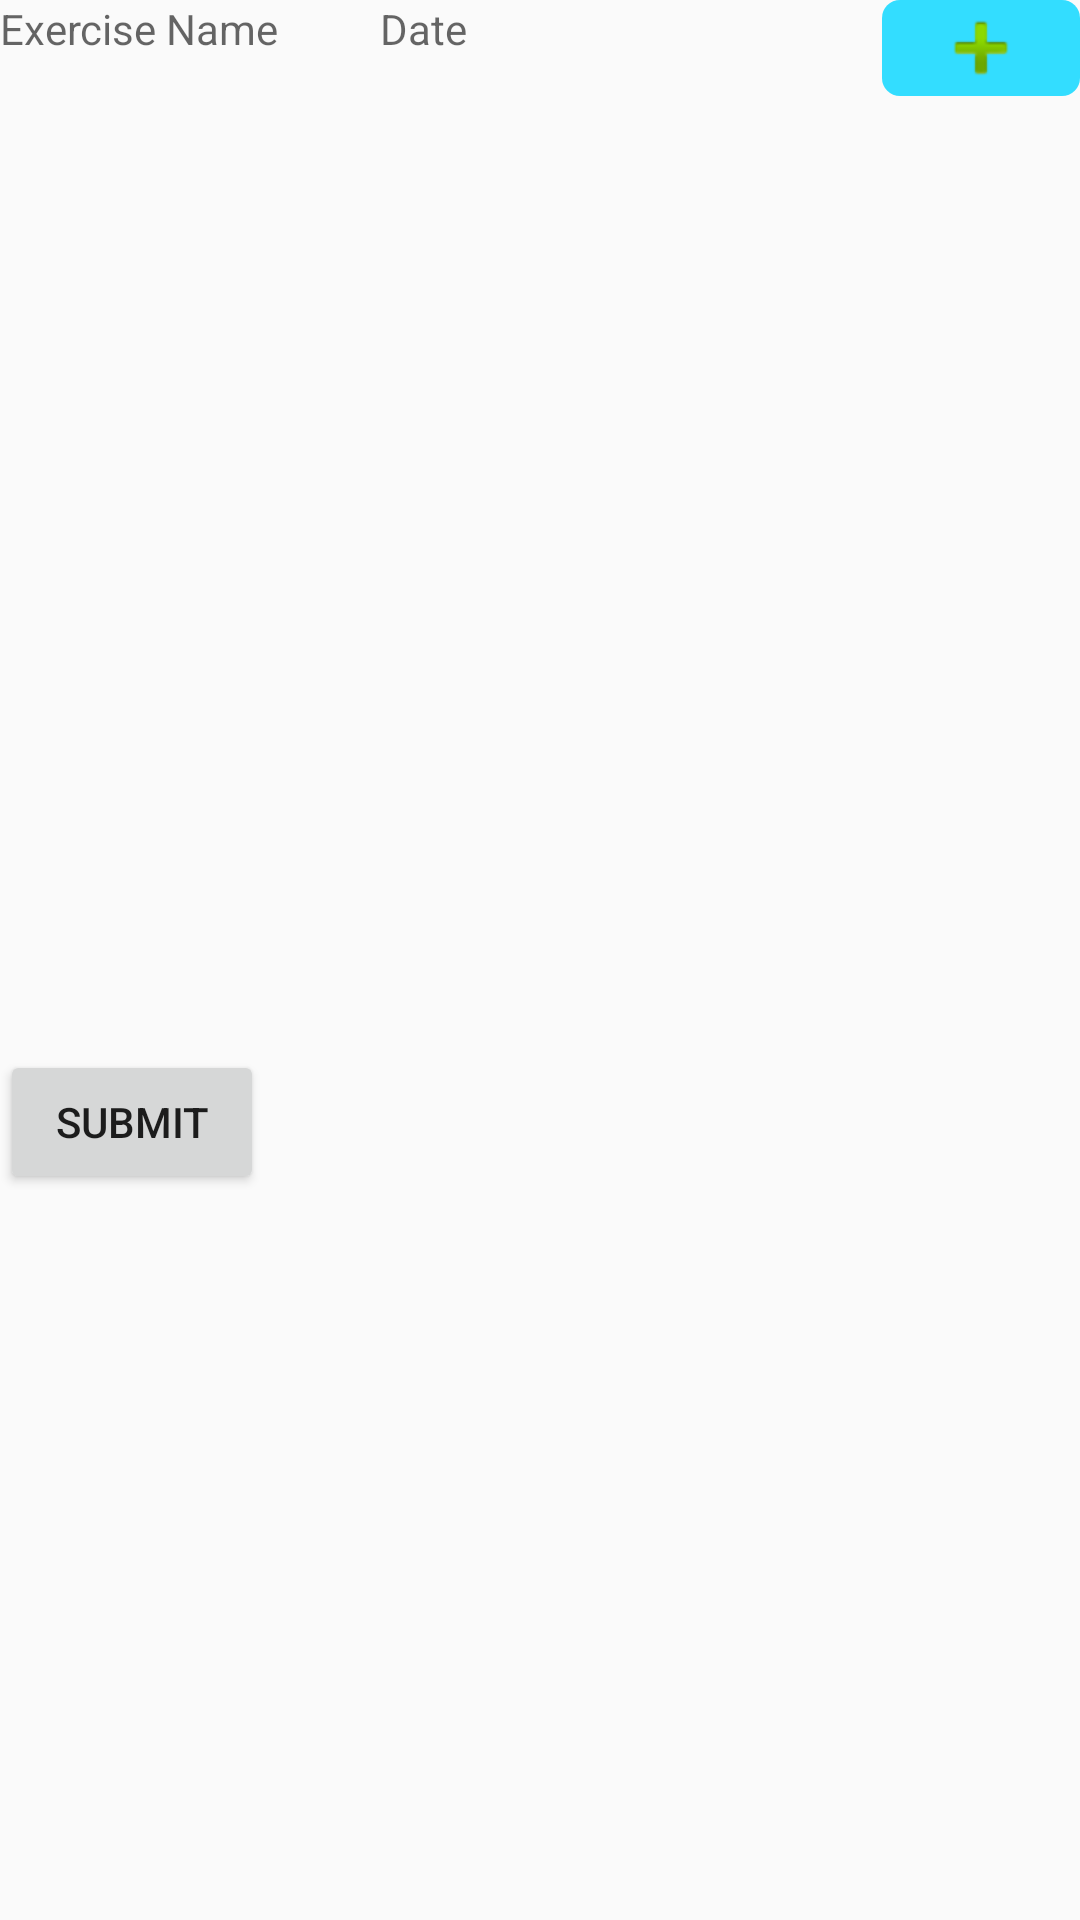

Named icons in this screenshot (1080w x 1920h) and their bounding boxes, (x1, y1, x2, y2):
add: (882, 0, 1080, 96)
